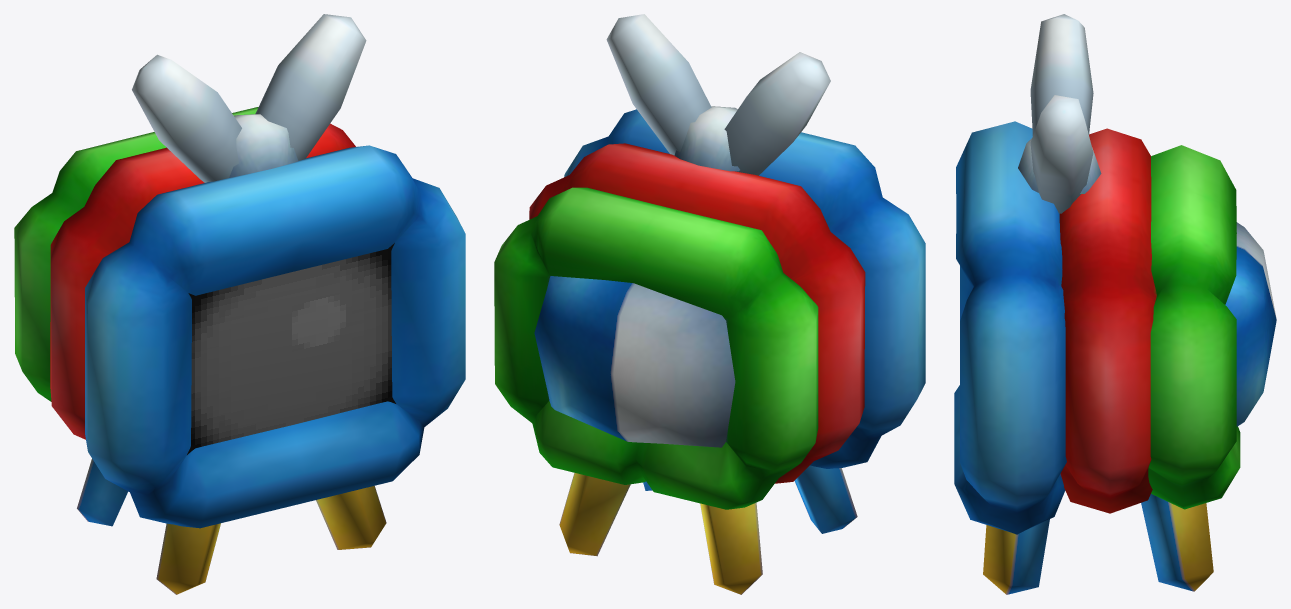
Rendered from int_bal_tv.dae.
3 renders of one model, left to right at view 1: azimuth 30°, elevation 25°; view 2: azimuth 150°, elevation 25°; view 3: azimuth 270°, elevation 25°, orthographic. The views are drawn at different scales.
Visible parts, largest first — view 1: int_bal_tv; view 2: int_bal_tv; view 3: int_bal_tv.
Boxes of the visible parts, x1,y1,x2,y2 form: int_bal_tv: [14, 14, 465, 594]; int_bal_tv: [494, 14, 925, 594]; int_bal_tv: [954, 14, 1276, 594].
Bounding box in the file's own units: 27.28 × 36.22 × 21.43.
2 materials, 2 textured.
